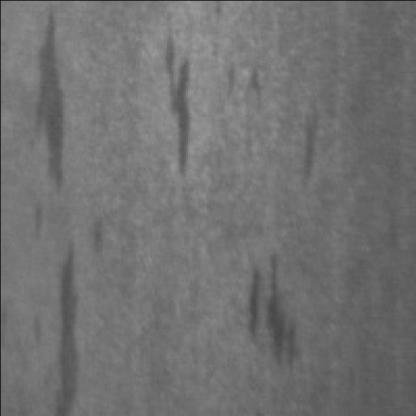inclusion: (15, 3, 77, 192), (141, 17, 204, 181), (36, 226, 88, 410), (237, 245, 302, 380), (281, 87, 329, 208), (216, 61, 264, 112)
